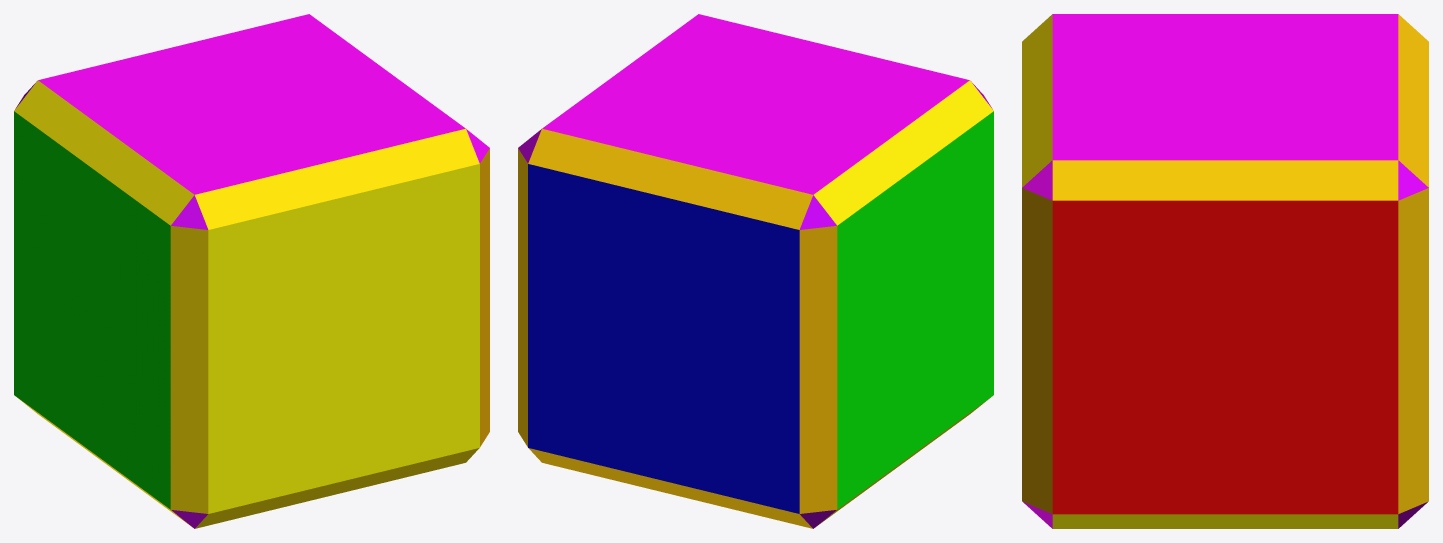
File: beveled_cube_chamfered_v2.glb
3 renders of one model, left to right at view 1: azimuth 30°, elevation 25°; view 2: azimuth 150°, elevation 25°; view 3: azimuth 270°, elevation 25°, orthographic. The views are drawn at different scales.
Parts seen in each view (by area): view 1: ChamferedCube; view 2: ChamferedCube; view 3: ChamferedCube.
Part boxes in pixels (x1=…): ChamferedCube: x1=14, y1=14, x2=489, y2=528; ChamferedCube: x1=518, y1=14, x2=993, y2=528; ChamferedCube: x1=1022, y1=14, x2=1428, y2=528.
Bounding box in the file's own units: 2 × 2 × 2.
